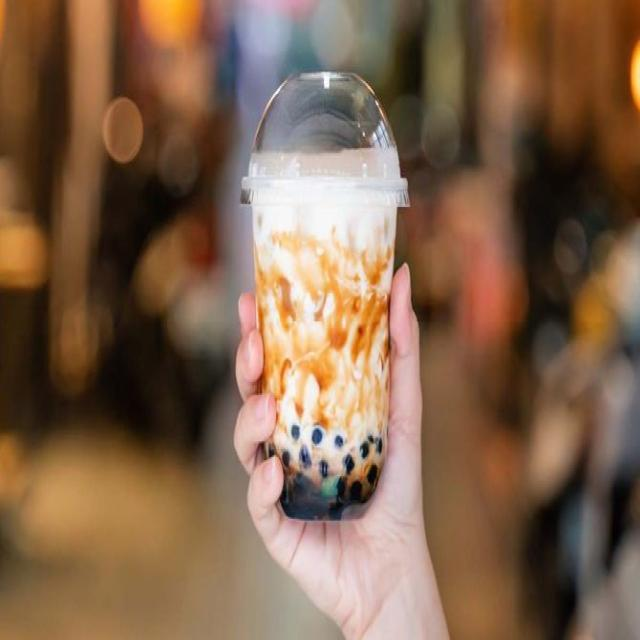cup: (239, 66, 412, 525)
